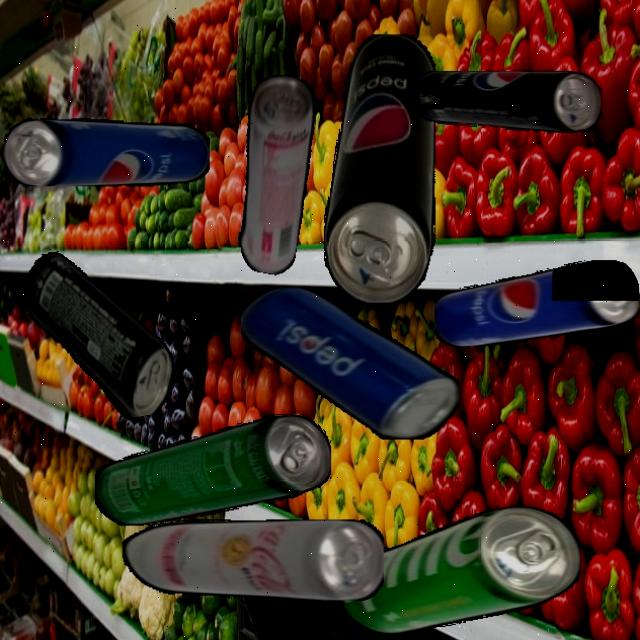debris: (240, 286, 460, 440), (20, 235, 182, 432), (337, 506, 580, 635), (323, 33, 435, 303), (94, 414, 331, 526), (121, 520, 384, 600), (223, 71, 325, 277), (433, 260, 639, 346), (4, 118, 210, 186), (413, 71, 602, 133)
